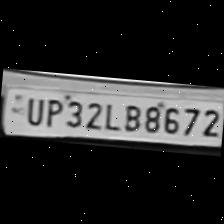2: (196, 104, 221, 137), (82, 97, 104, 130)
3: (62, 95, 84, 128)
6: (160, 100, 182, 134)
7: (177, 102, 200, 135)
8: (141, 99, 163, 132)
B: (119, 98, 143, 131)
L: (100, 98, 122, 130)
P: (41, 94, 64, 128)
U: (22, 92, 46, 125)
